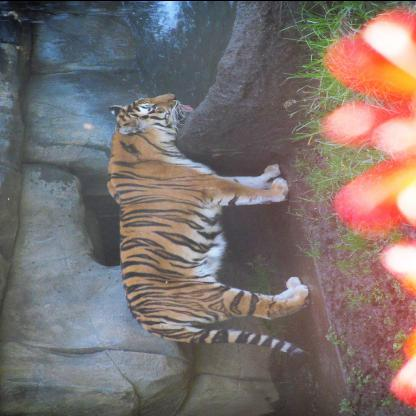tiger: (106, 87, 196, 140)
